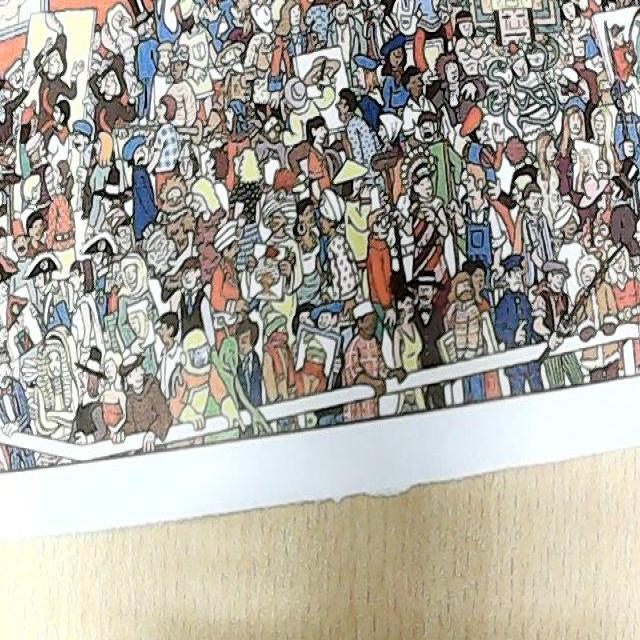waldo: (106, 211, 136, 253)
